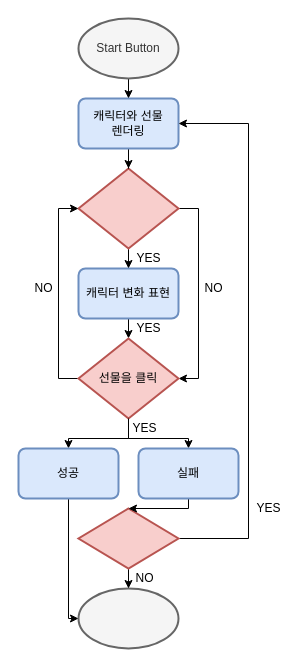
The diagram is 305 pixels wide and 666 high, and some of its shapes have lost their labels. Here are the shapes that lost their labels. From the top down, the centre of each, then its label:
the point at 128,208: 선물을 드래그
the point at 128,538: 다시하기
the point at 128,618: 종료
